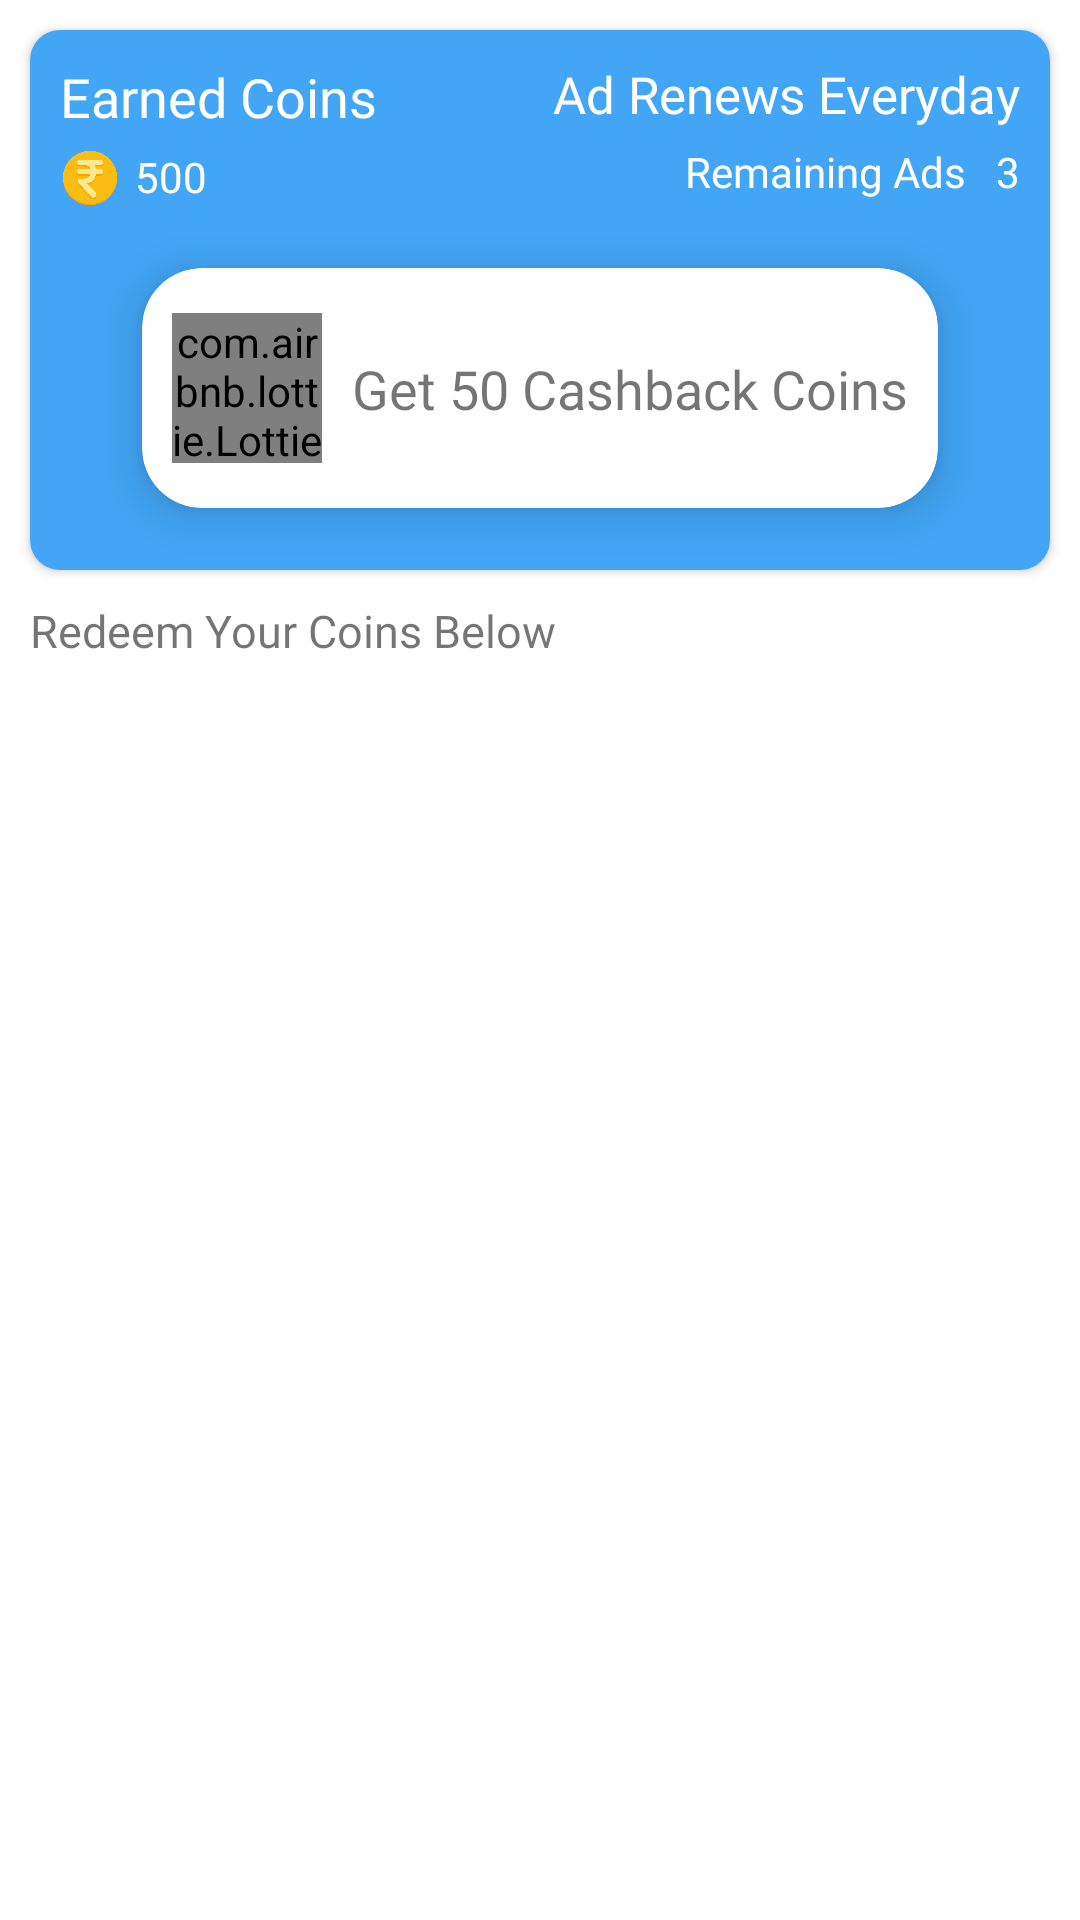

Icons on this 1080*1920 Android screen, each with its box as (x1, y1, x2, y2):
coinvector: (63, 151, 117, 205)
